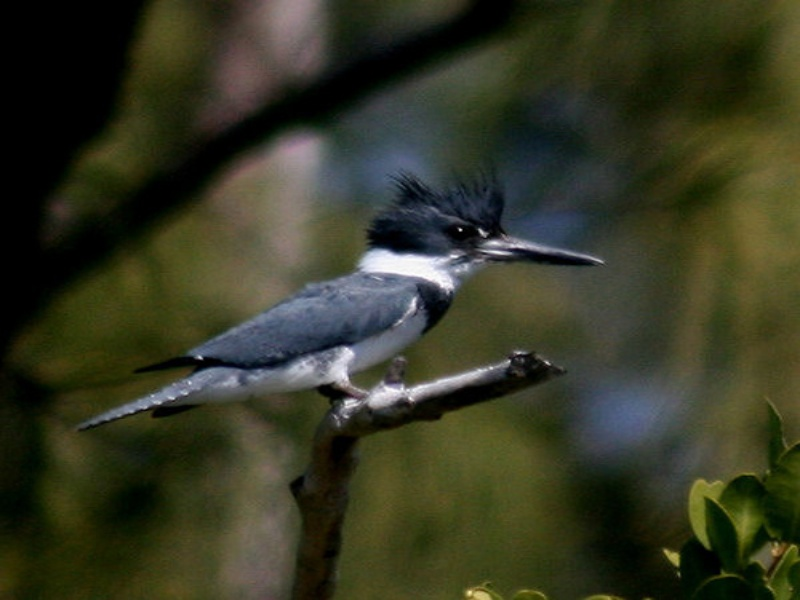kingfisher: (74, 154, 610, 447)
